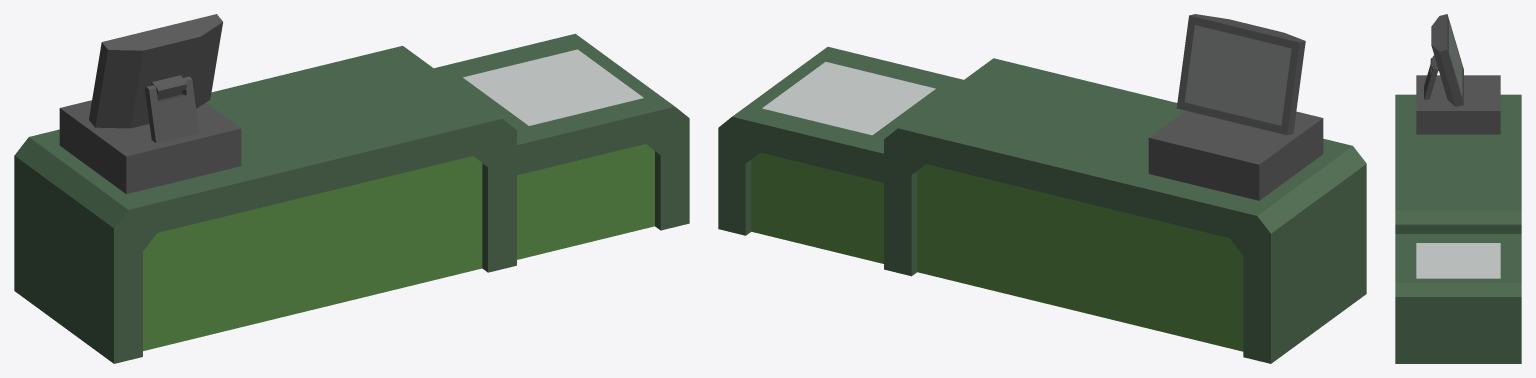
The model's file is Counter02.fbx.
3 renders of one model, left to right at view 1: azimuth 30°, elevation 25°; view 2: azimuth 150°, elevation 25°; view 3: azimuth 270°, elevation 25°, orthographic. The views are drawn at different scales.
Visible parts, largest first — view 1: Table_Large, Table_Small, CashRegister; view 2: Table_Large, Table_Small, CashRegister; view 3: Table_Small, Table_Large, CashRegister.
Part boxes in pixels (x1=…): Table_Large: x1=14, y1=45, x2=516, y2=363; Table_Small: x1=434, y1=33, x2=689, y2=259; CashRegister: x1=59, y1=14, x2=241, y2=194; Table_Large: x1=884, y1=58, x2=1366, y2=363; Table_Small: x1=718, y1=47, x2=963, y2=263; CashRegister: x1=1148, y1=14, x2=1323, y2=200; Table_Small: x1=1395, y1=234, x2=1521, y2=363; Table_Large: x1=1395, y1=94, x2=1521, y2=233; CashRegister: x1=1416, y1=14, x2=1500, y2=134.
Size of the model in its own units: 4 by 1.89 by 1.2.
1 material, 1 textured.
